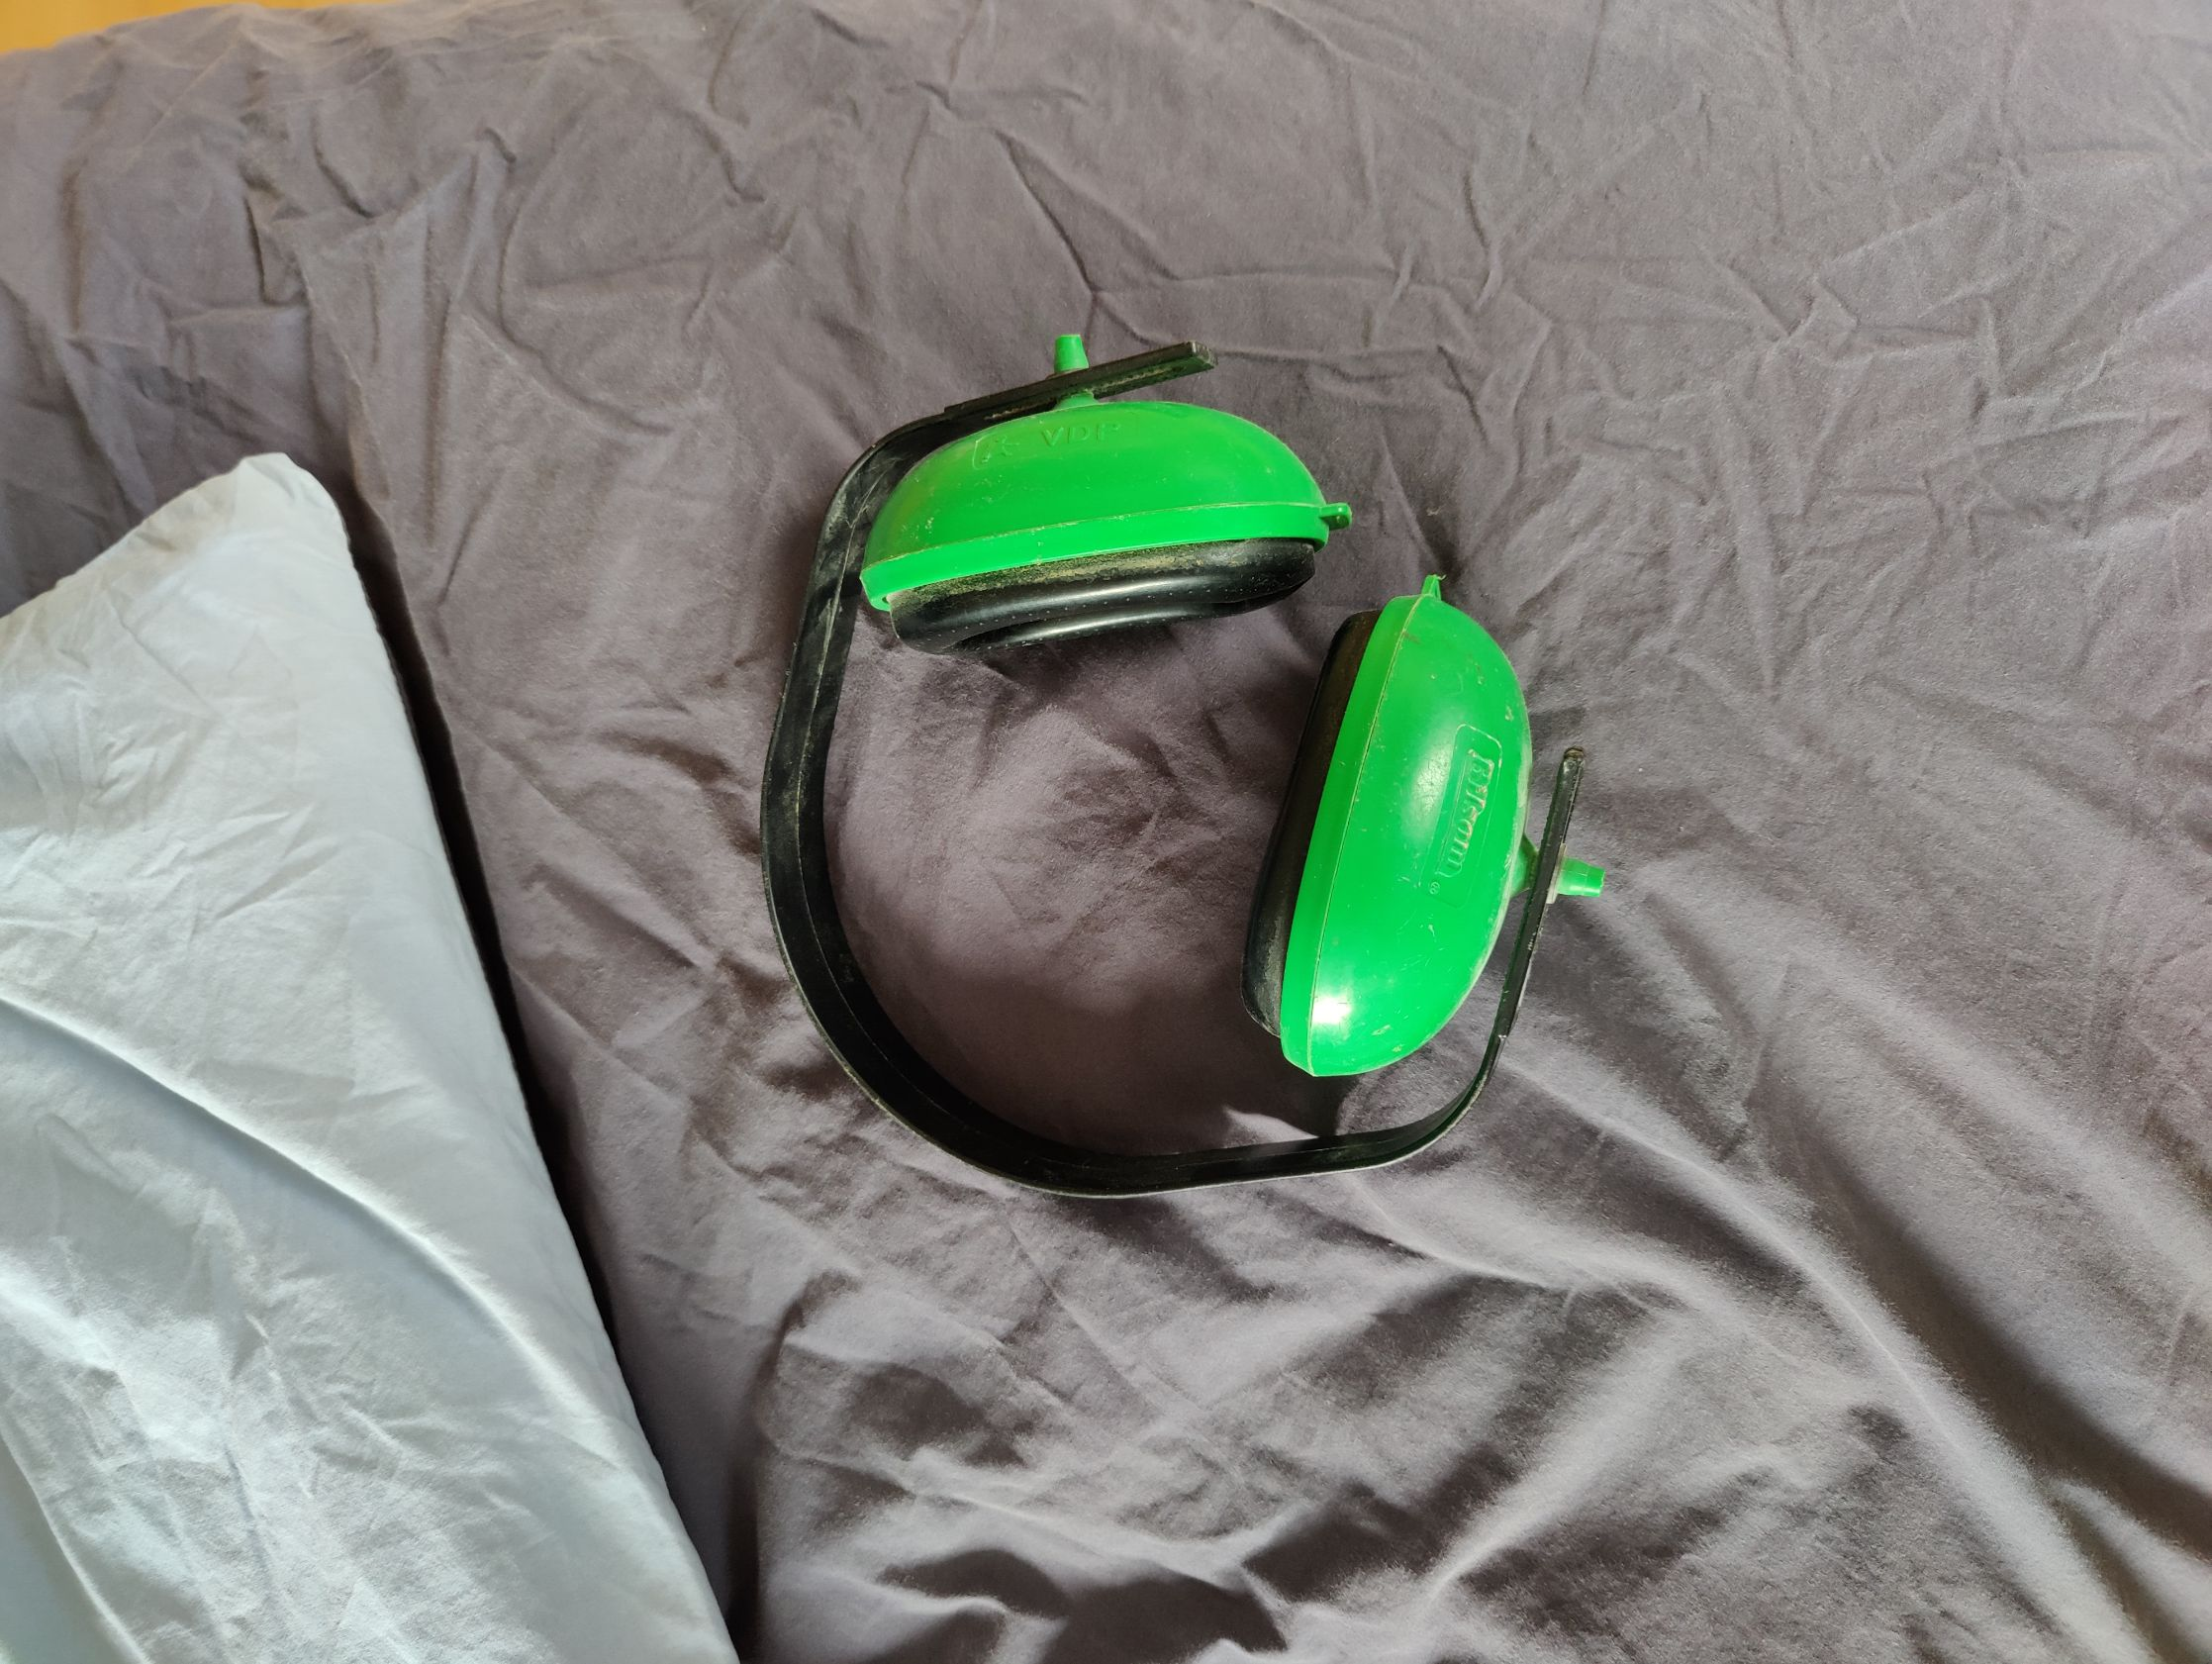headphones: (758, 346, 1604, 1196)
